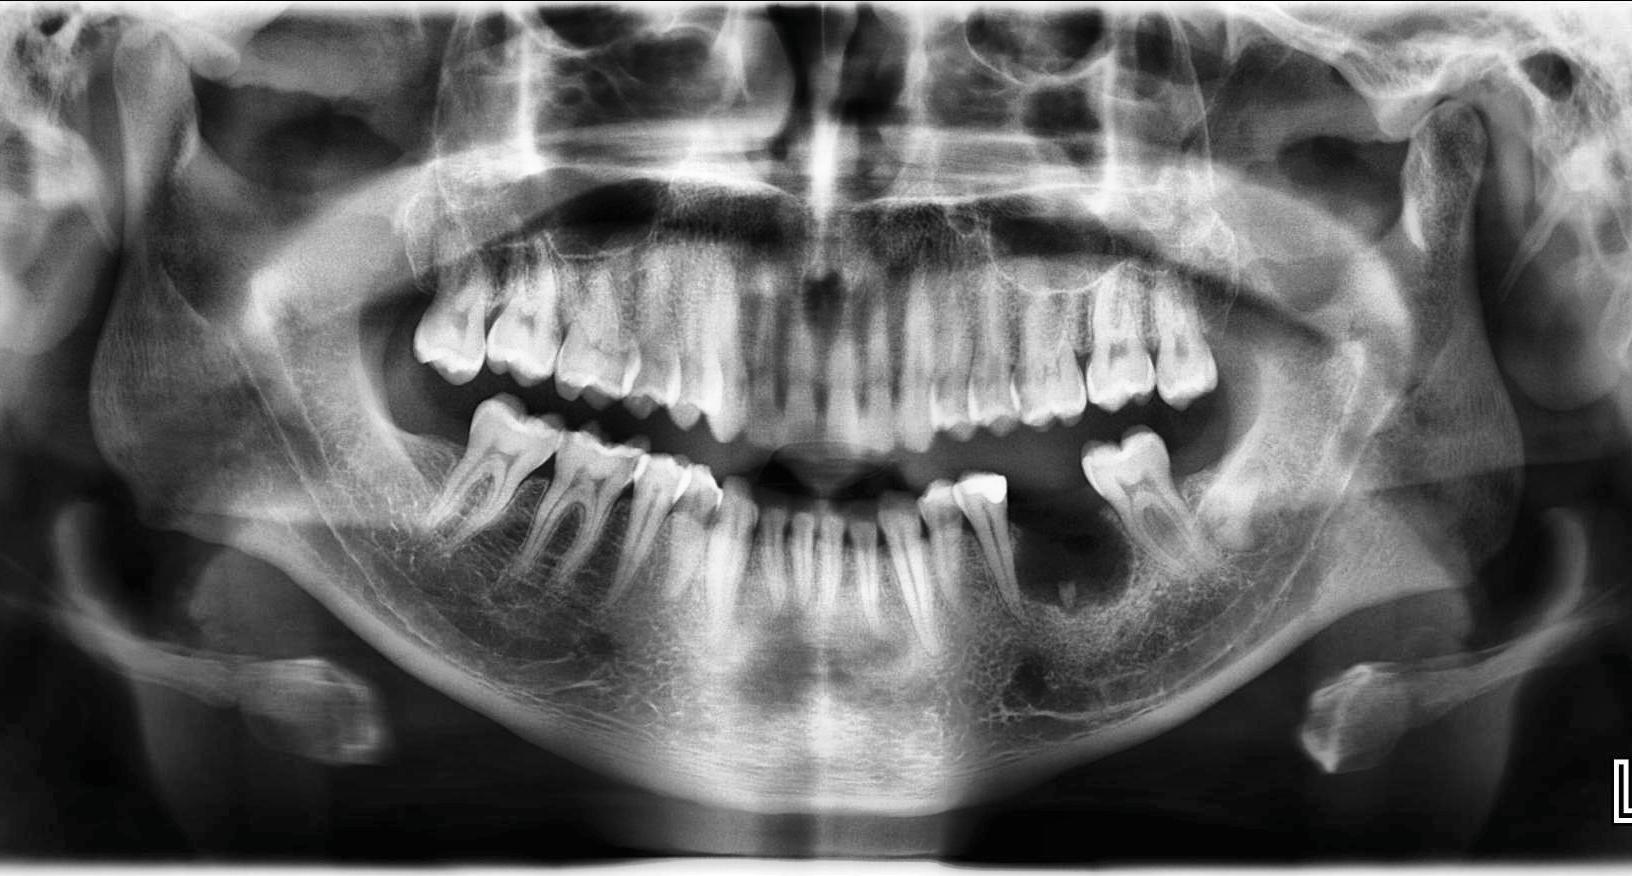radikuler: (1013, 512, 1138, 621)
